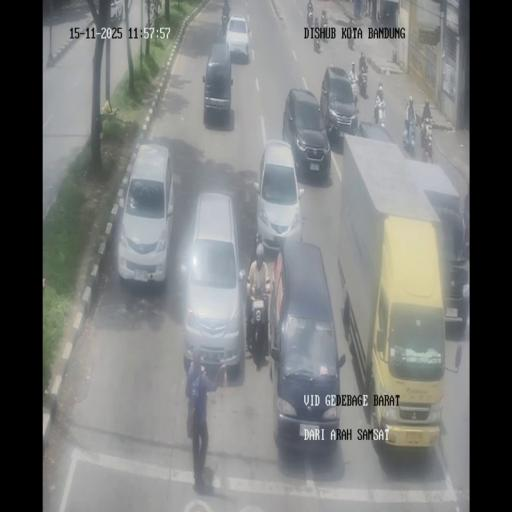car: (270, 242, 342, 452), (182, 194, 247, 376), (117, 142, 174, 284), (428, 199, 471, 332), (255, 140, 305, 253), (283, 86, 332, 182), (202, 40, 233, 126), (225, 14, 250, 62), (358, 121, 396, 144), (104, 0, 124, 23)
motorcycle: (244, 277, 271, 360), (420, 119, 433, 162), (402, 116, 415, 154), (349, 74, 360, 104), (358, 68, 368, 98), (422, 99, 432, 124), (375, 82, 384, 106), (347, 25, 355, 50), (221, 14, 229, 36), (306, 8, 314, 29), (373, 100, 380, 124), (152, 0, 162, 15), (314, 34, 321, 52), (361, 0, 368, 17), (321, 10, 327, 28), (379, 116, 386, 129), (376, 8, 381, 22), (314, 16, 319, 28)
truck: (337, 137, 453, 448)
